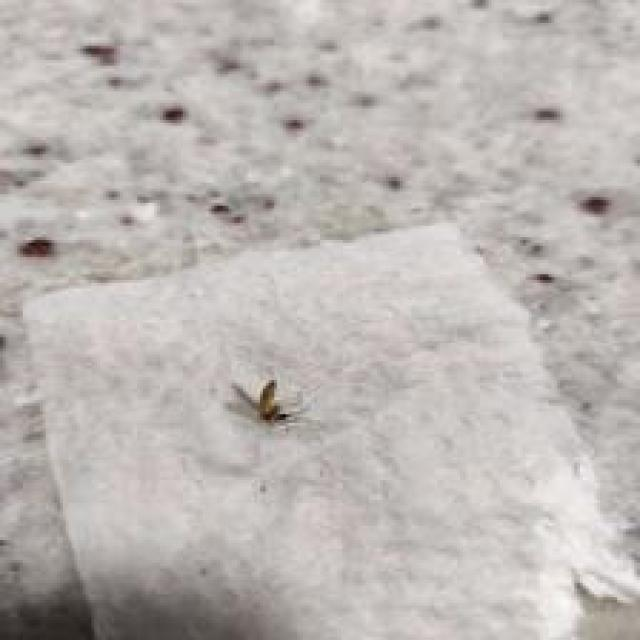Culex: (230, 377, 301, 426)
